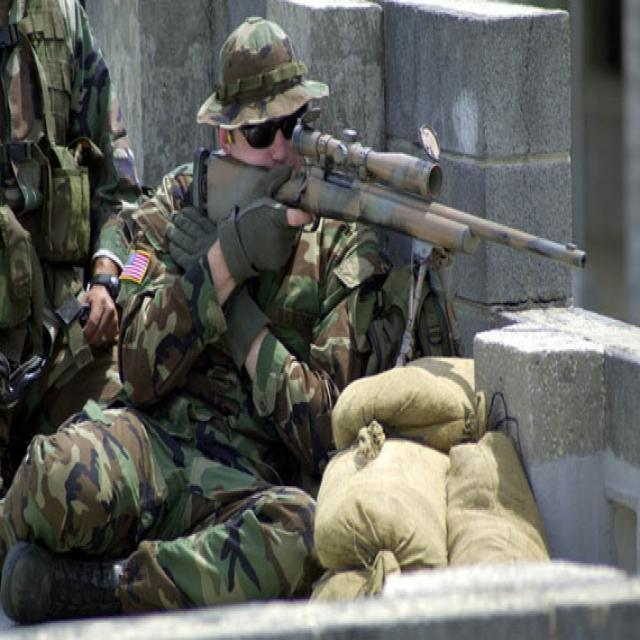rifle: (192, 110, 595, 284)
